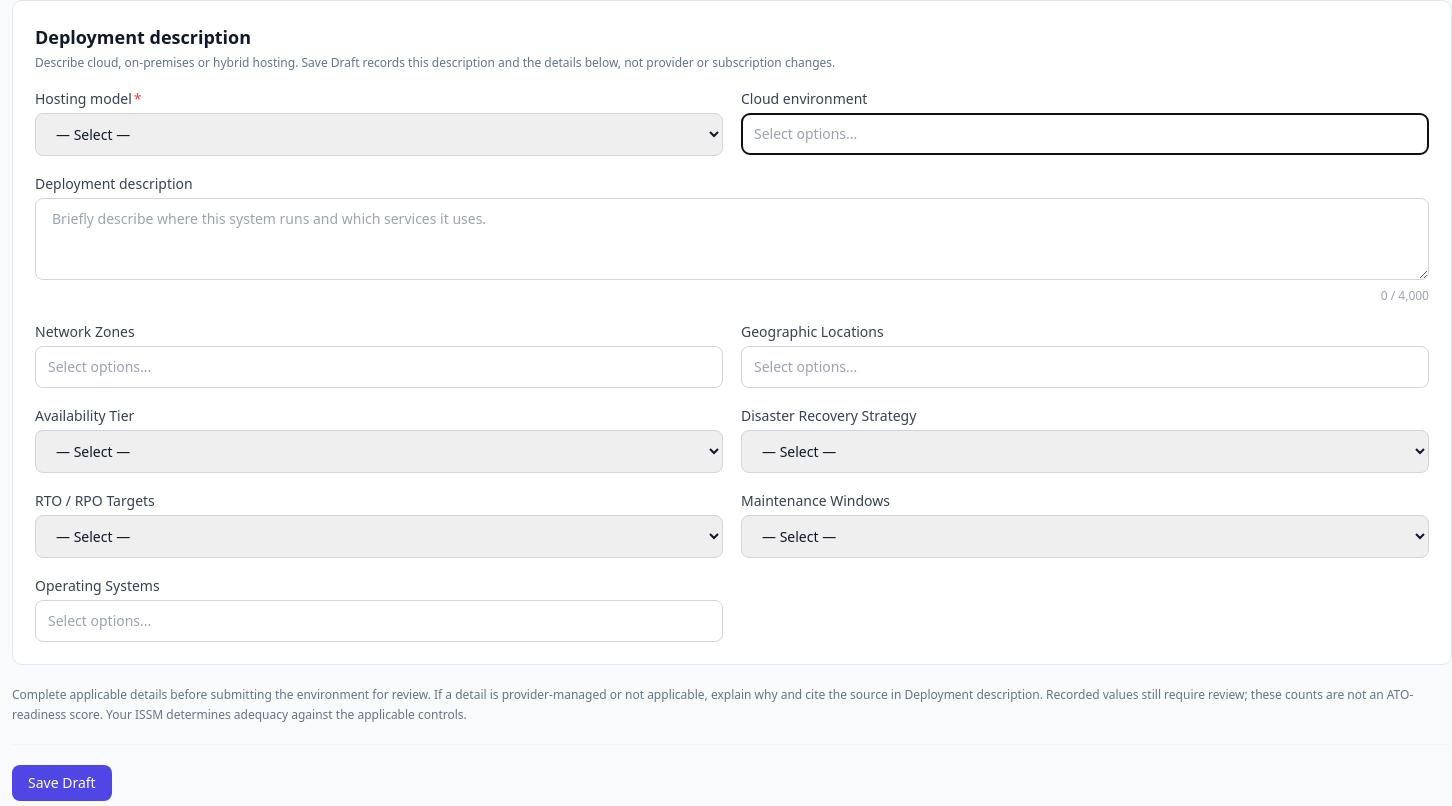
Test: Environment primary fields › selects a filtered cloud with Enter without submitting the deployment form
Press ArrowDown in the dropdown named "Cloud environment", box [741, 113, 1429, 155]
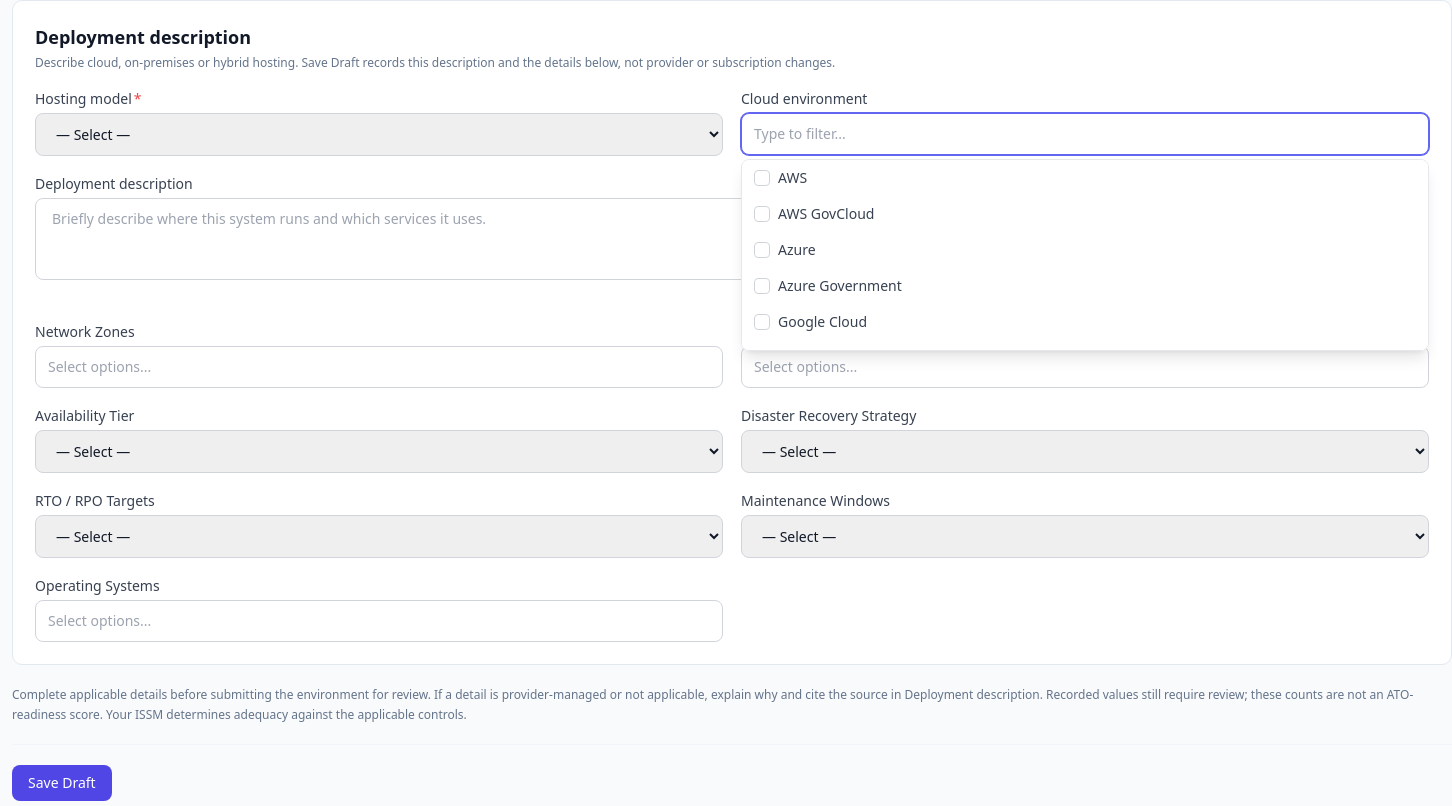
Type "Azure Government" into the field with placeholder "Type to filter..." at (1085, 134), box [754, 124, 1416, 144]
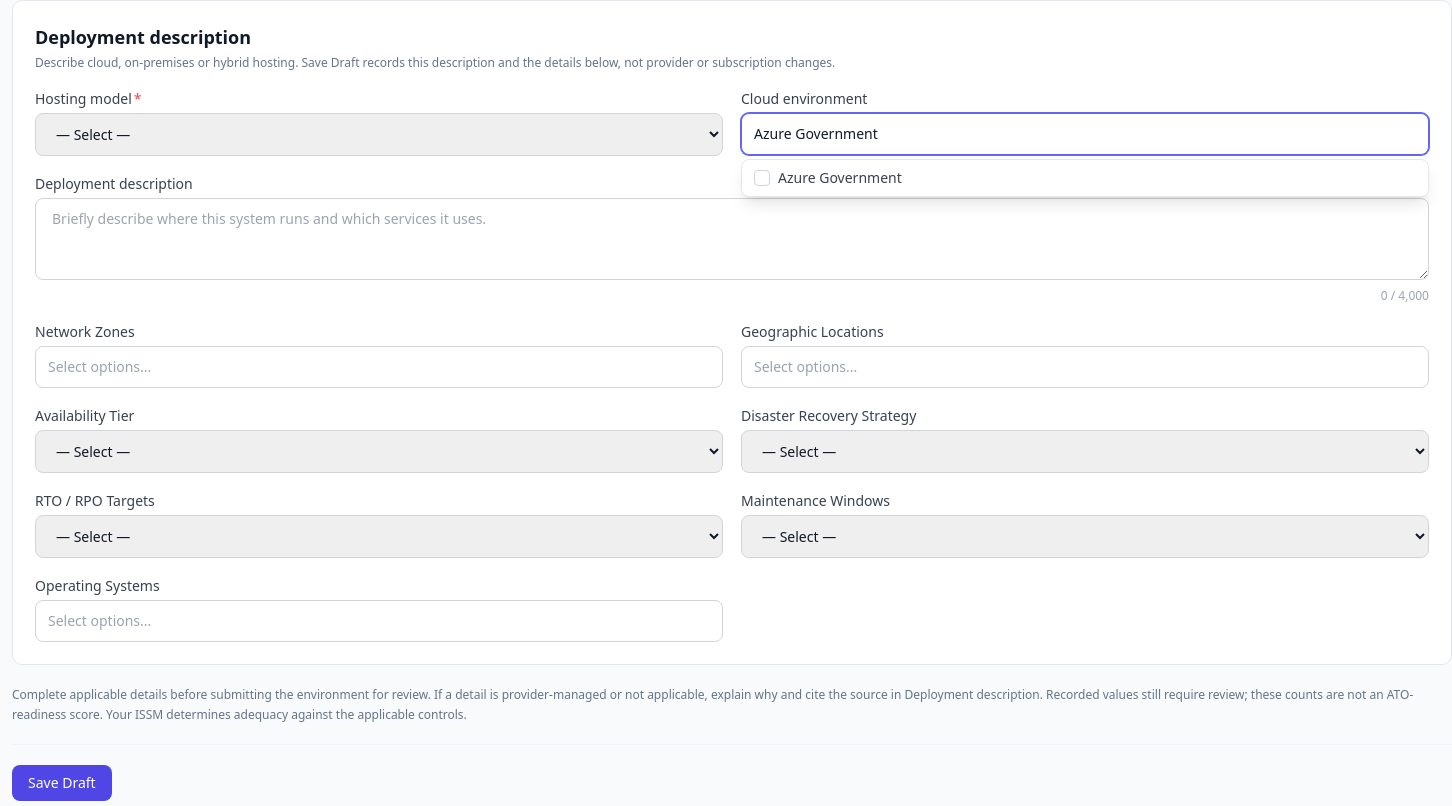
Press Enter in the field with placeholder "Type to filter...", box [754, 124, 1416, 144]
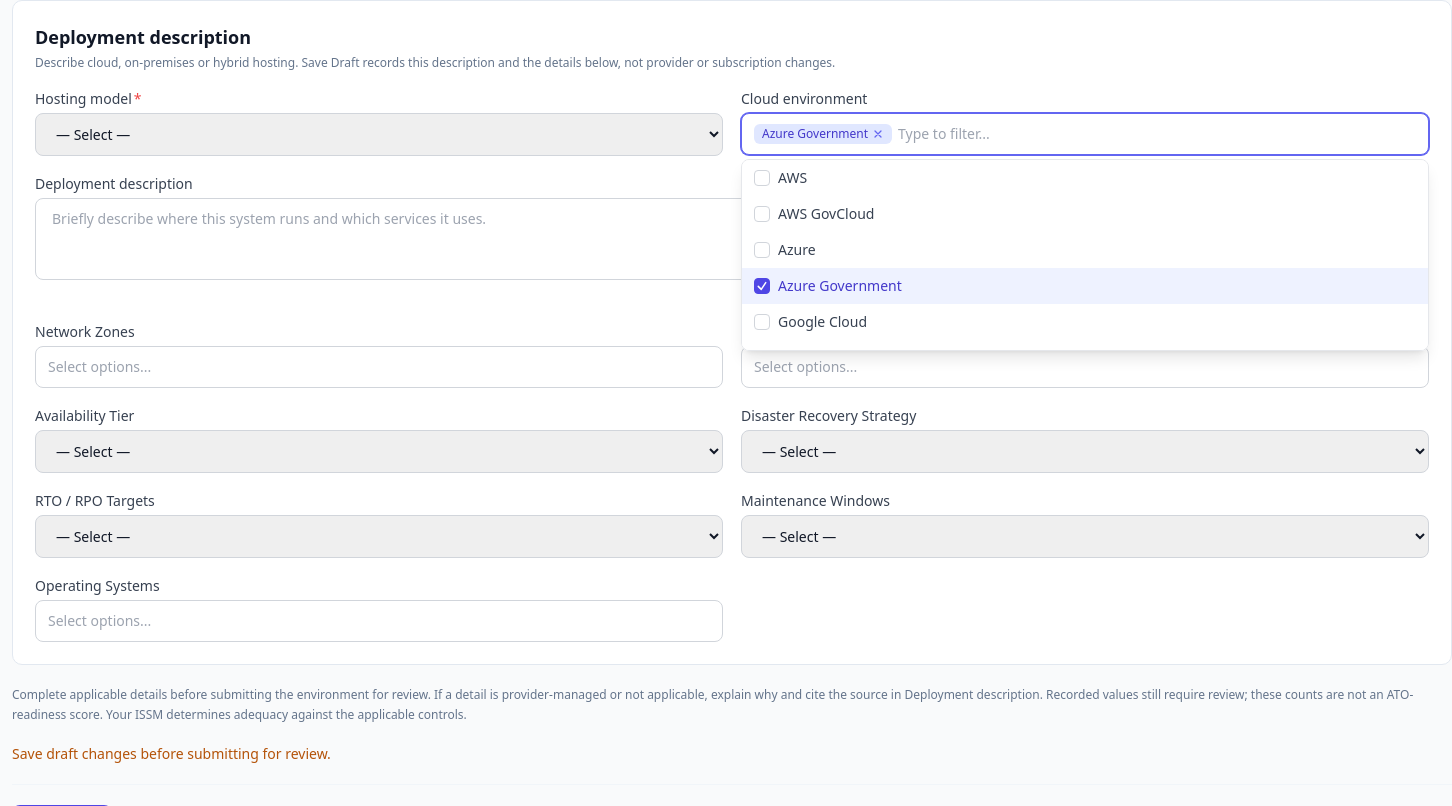
Expected: the dropdown named "Cloud environment" reads "Azure Government", [741, 113, 1429, 155]
